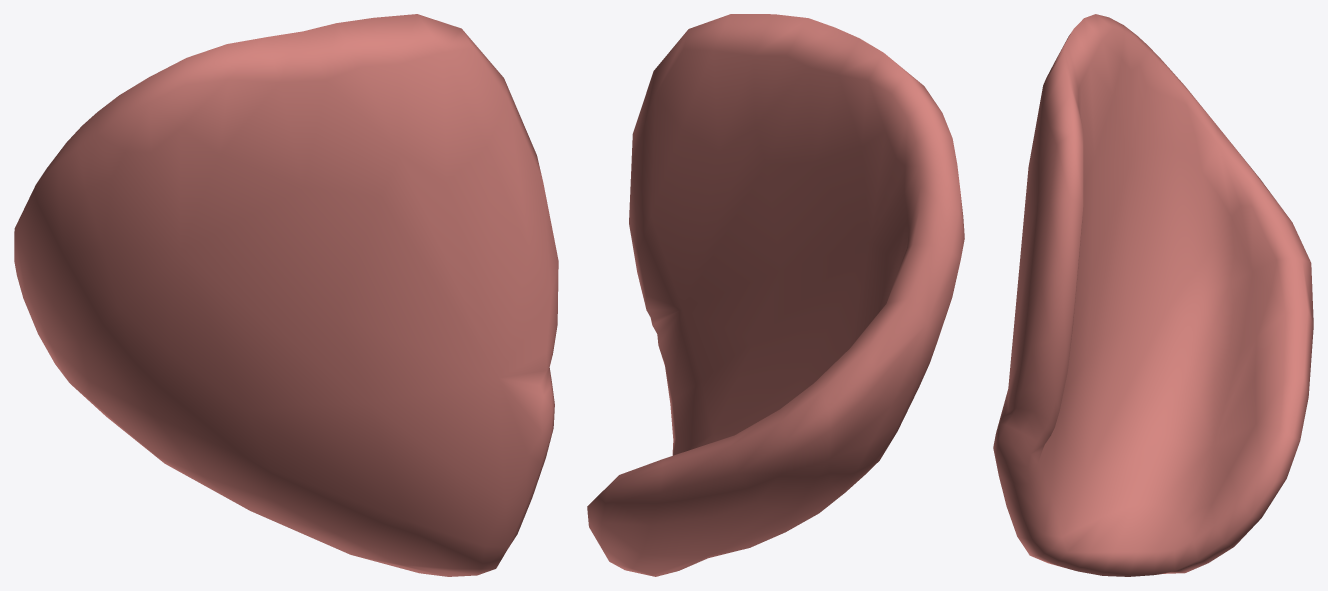
The picture shows the model from 3 angles, left to right: view 1: azimuth 30°, elevation 25°; view 2: azimuth 150°, elevation 25°; view 3: azimuth 270°, elevation 25°; orthographic projection. The views are drawn at different scales.
Visible parts, largest first — view 1: ZA_8ed2e46b1284612f; view 2: ZA_8ed2e46b1284612f; view 3: ZA_8ed2e46b1284612f.
Boxes of the visible parts, x1,y1,x2,y2 form: ZA_8ed2e46b1284612f: (14, 14, 558, 576); ZA_8ed2e46b1284612f: (587, 14, 964, 576); ZA_8ed2e46b1284612f: (993, 14, 1313, 576).
Size of the model in its own units: 0.00373 by 0.00484 by 0.00293.
